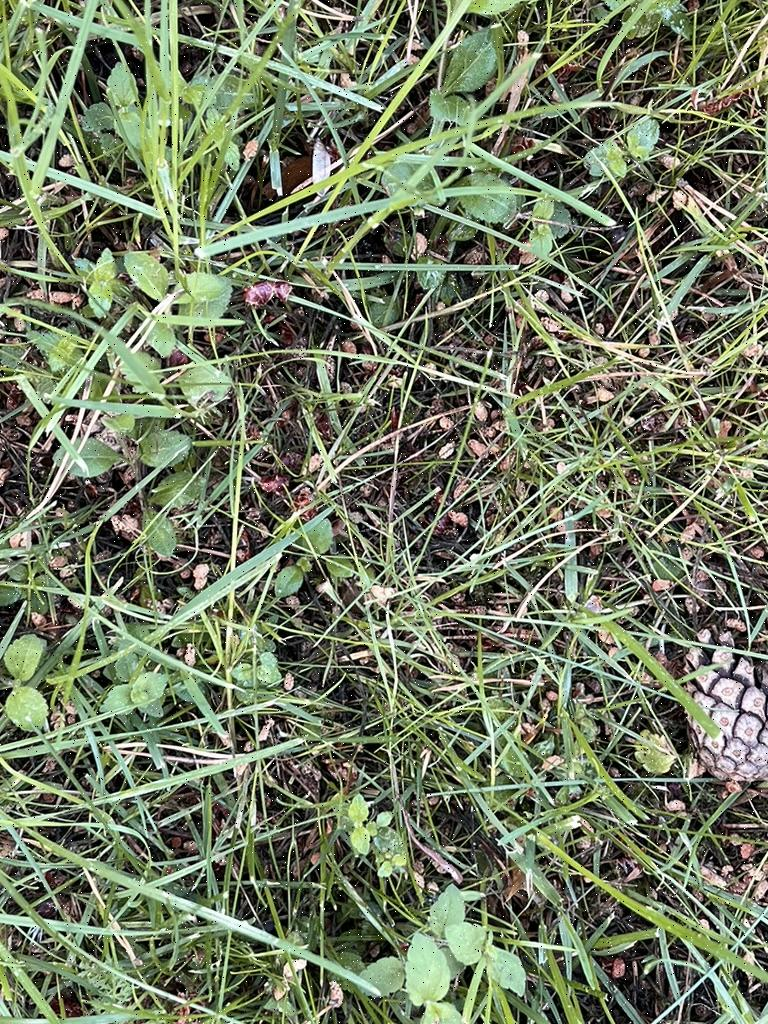pine: (673, 620, 768, 808)
